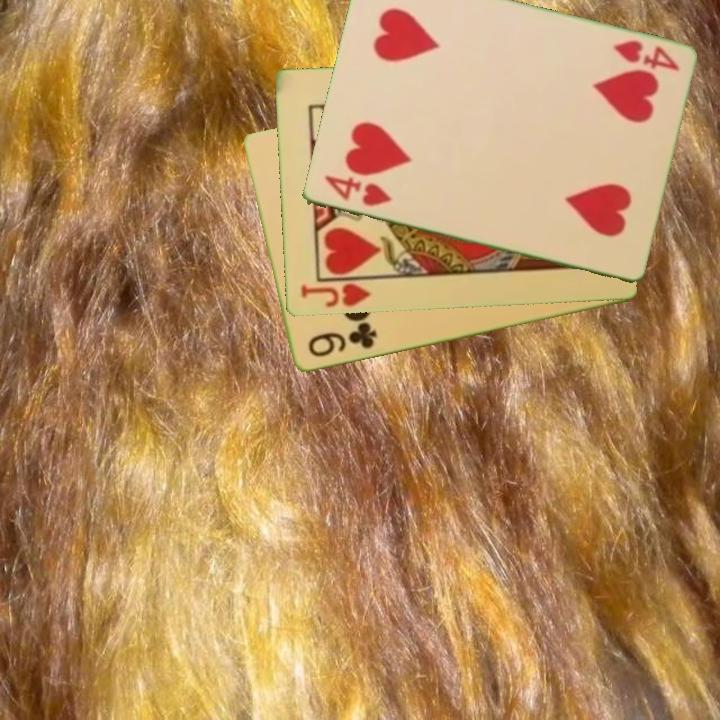4h: (320, 172, 394, 210), (608, 37, 682, 74)
9c: (304, 322, 380, 361)
Jh: (297, 275, 378, 311)
